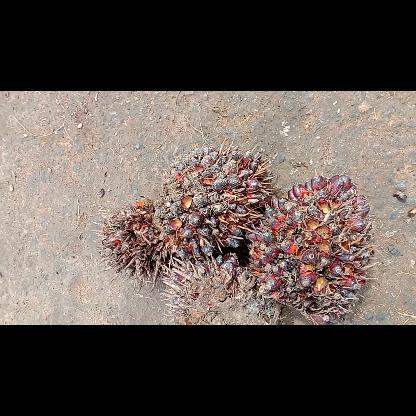TBS abnormal: (247, 170, 375, 324), (154, 139, 274, 259), (162, 252, 282, 324), (92, 201, 170, 289)
